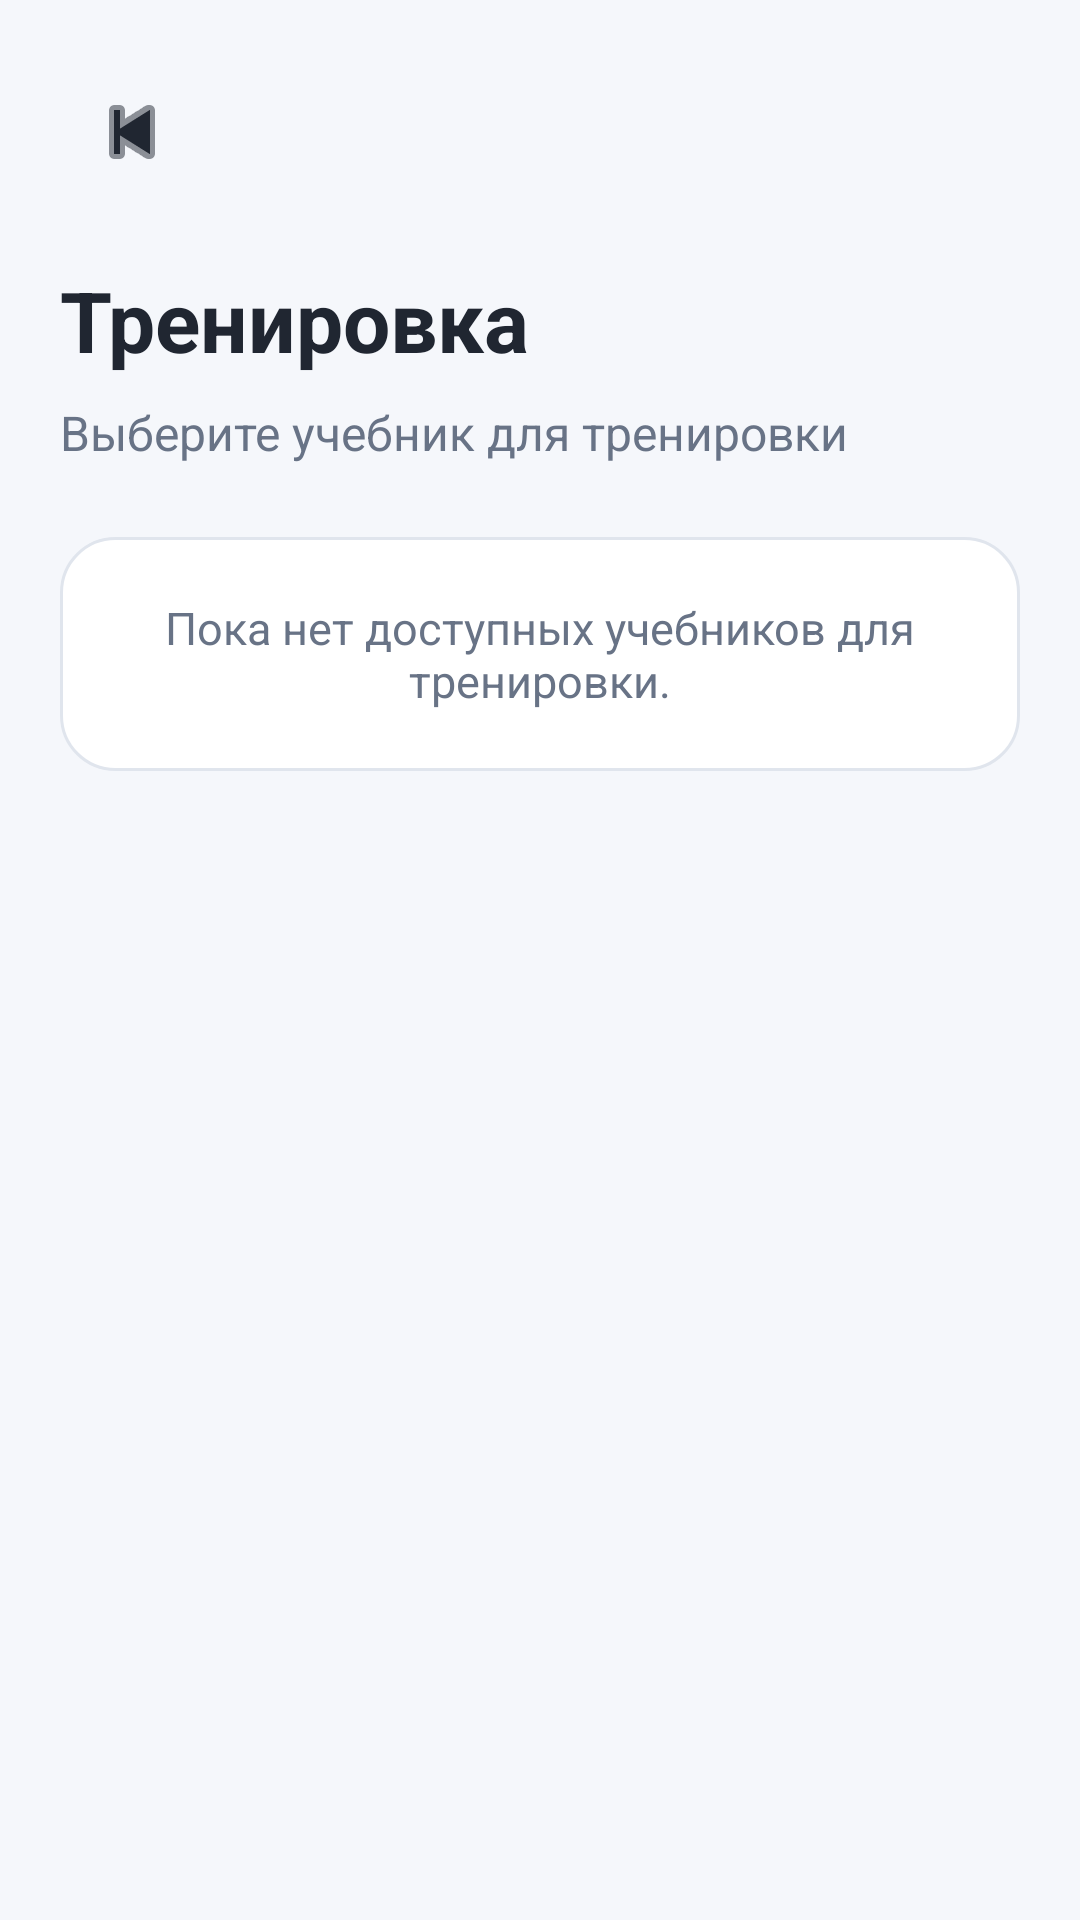

Icons on this 1080 × 1920 Android screen, each with its box as (x1, y1, x2, y2):
Назад: (109, 105, 155, 159)
